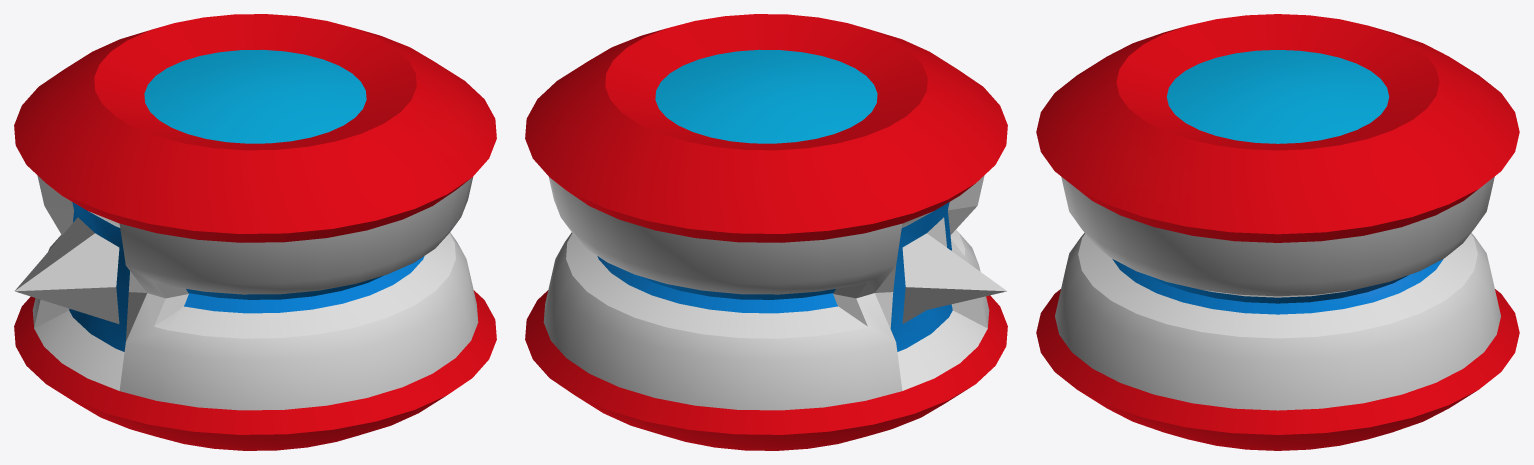
Rendered from Sentry.fbx.
3 views of the same model, side by side, from view 1: azimuth 30°, elevation 25°; view 2: azimuth 150°, elevation 25°; view 3: azimuth 270°, elevation 25° (orthographic).
Parts seen in each view (by area): view 1: Sphere; view 2: Sphere; view 3: Sphere.
Boxes of the visible parts, box(x1,y1,x2,y2) form: Sphere: box(14, 14, 496, 450); Sphere: box(525, 14, 1007, 450); Sphere: box(1036, 14, 1519, 450).
Bounding box in the file's own units: 4.58 × 2.92 × 4.26.
